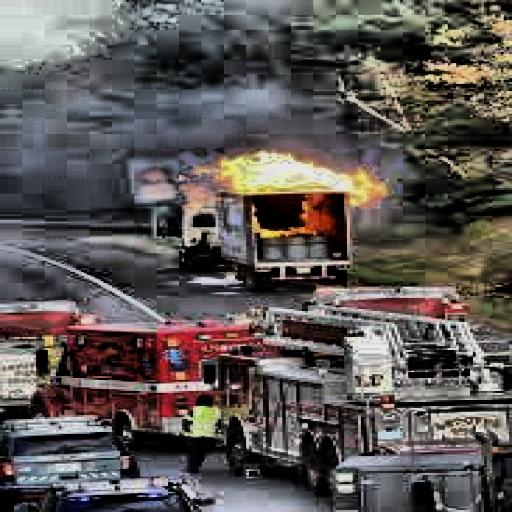fire: (182, 143, 392, 220)
